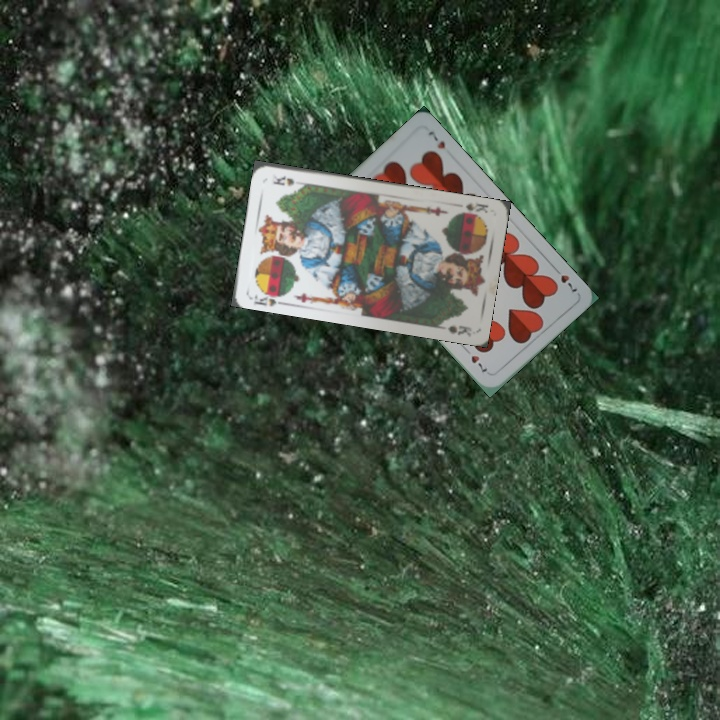H7: (549, 263, 580, 295)
SK: (250, 286, 288, 308), (461, 199, 491, 215)
